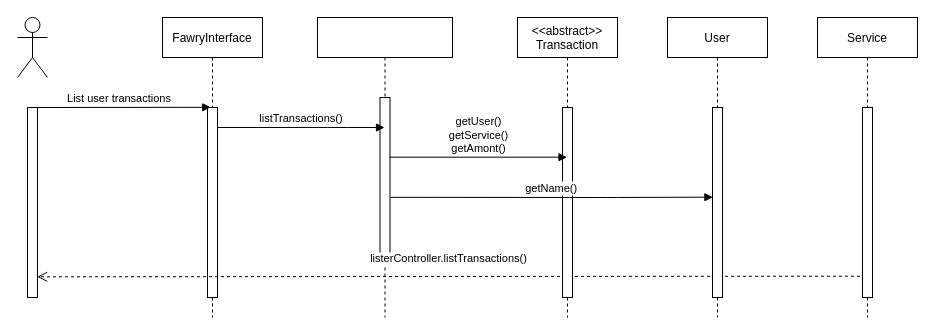
Image size: 935x335. Some labels were removed from this diagram. Here are the shapes that lost their labels. From the top down, the box of each, then its label:
(16, 16, 48, 78): Actor
(316, 16, 452, 318): TransactionController
